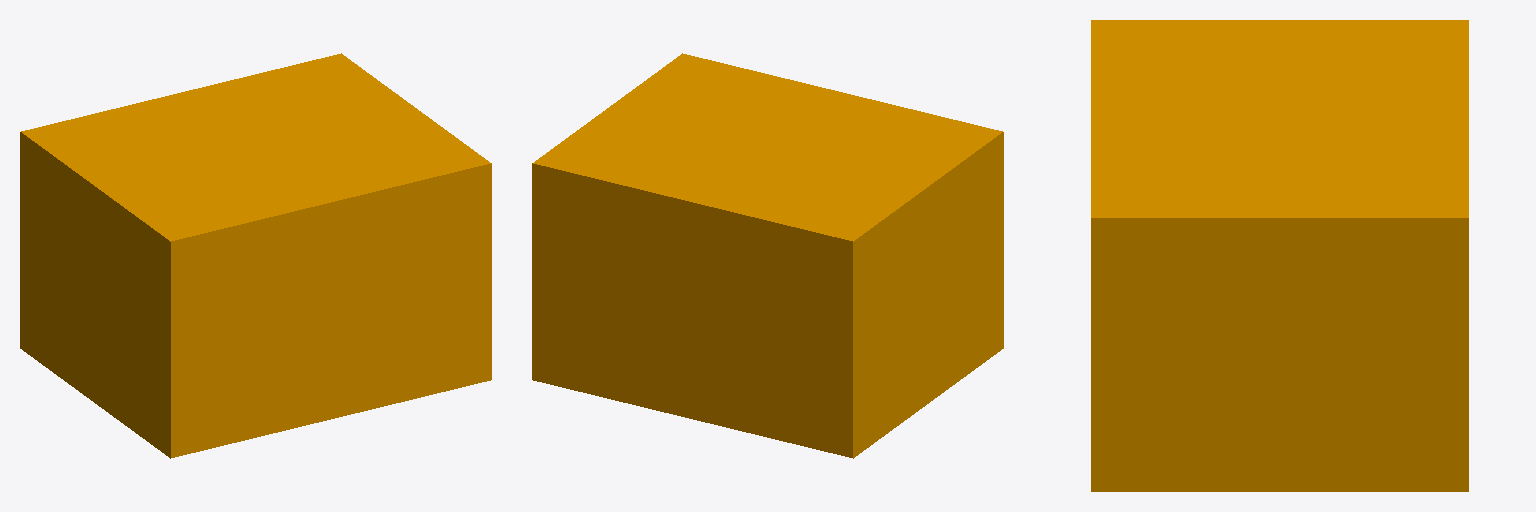
robot.urdf — object:
<?xml version="1.0"?>
<!-- Auto-generated by tools/gen_primitive_objects.py. kind=box dims=(0.084862, 0.068772, 0.05483) -->
<robot name="object">
  <link name="object">
    <visual>
      <origin xyz="0 0 0"/>
      <geometry>
        <box size="0.084862 0.068772 0.054830"/>
      </geometry>
    </visual>
    <collision>
      <origin xyz="0 0 0"/>
      <geometry>
        <box size="0.084862 0.068772 0.054830"/>
      </geometry>
    </collision>
    <inertial>
      <mass value="0.063999"/>
      <inertia ixx="0.00004126" ixy="0.0" ixz="0.0" iyy="0.00005444" iyz="0.0" izz="0.00006363"/>
    </inertial>
  </link>
</robot>

--- Render facts (derived) ---
Views: 3 orthographic renders of the robot side by side, from view 1: azimuth 30°, elevation 25°; view 2: azimuth 150°, elevation 25°; view 3: azimuth 270°, elevation 25°.
Model object with 1 links and 0 joints (none), rooted at object, posed all joints at 0.
Links seen in each view (by area): view 1: object; view 2: object; view 3: object.
Boxes of the visible links, bbox=[...] form: object: bbox=[20, 53, 491, 458]; object: bbox=[532, 53, 1003, 458]; object: bbox=[1091, 20, 1468, 491].
Size in the robot's own frame: 0.0849 by 0.0688 by 0.0548 metres.
Geometry: primitives only (box / cylinder / sphere), no mesh files.
